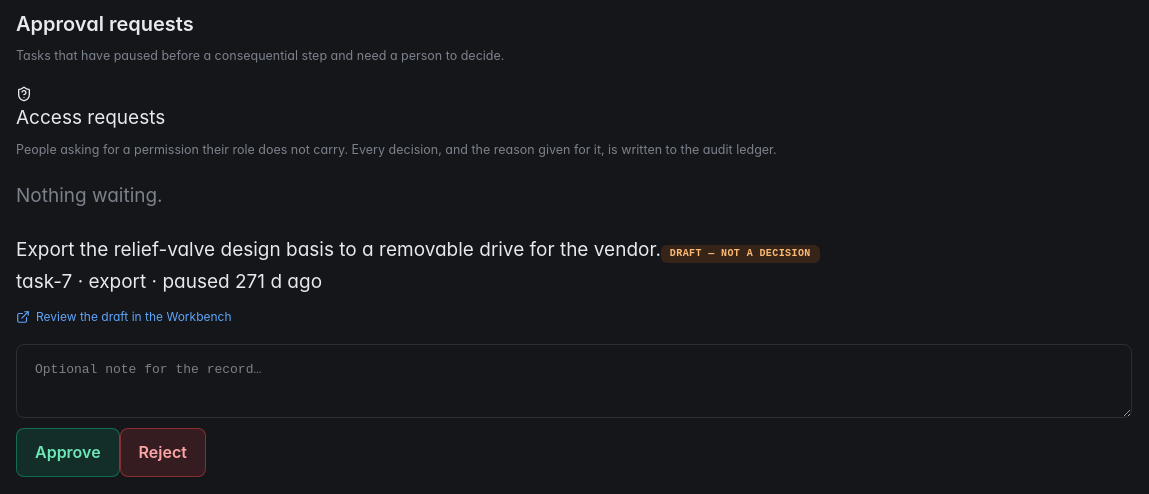
Test: Approval Requests › Reject posts approved=false and confirms
This screenshot has width=1149, height=494.
Click the button "Reject": (163, 453) 120,428 -> 206,477
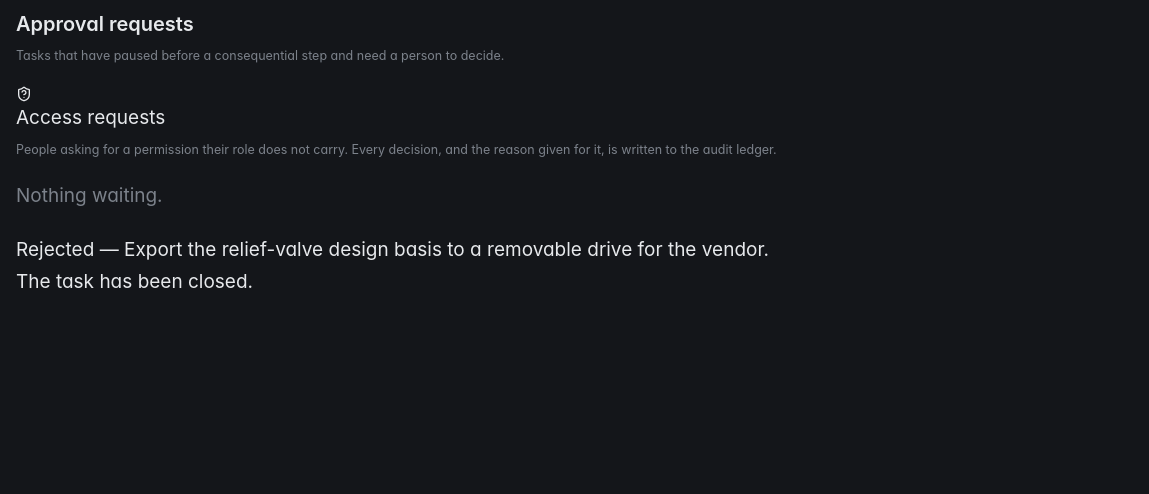
Now the text "Rejected —" is shown, box 16,238 -> 769,261
